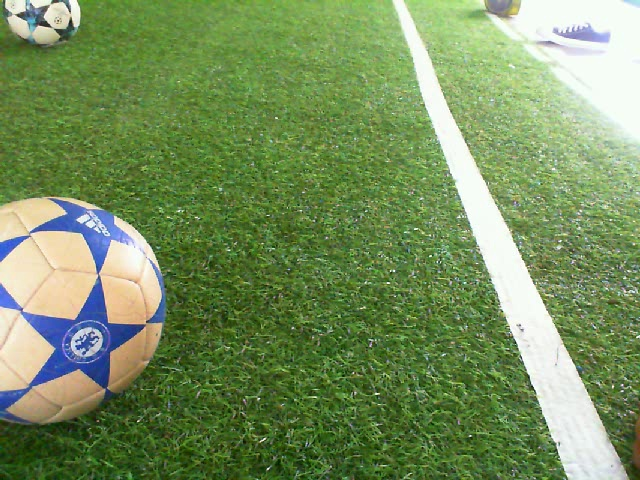ball: (1, 192, 171, 431), (1, 1, 84, 52)
